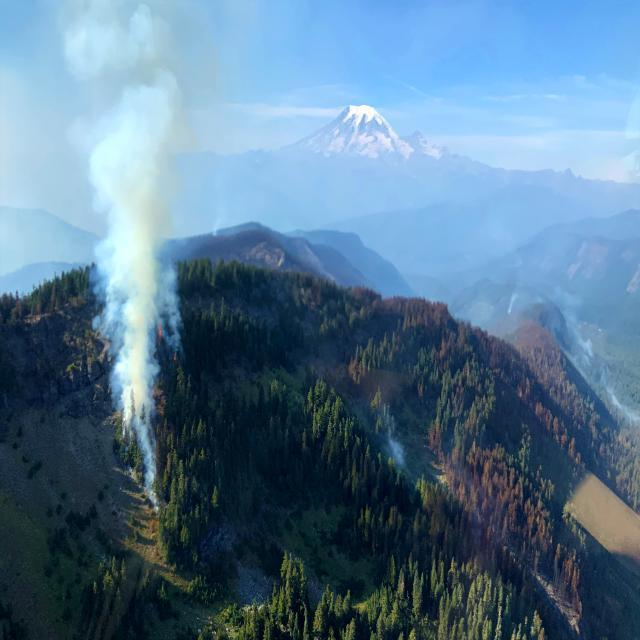Smoke: (72, 7, 229, 486), (383, 428, 411, 471)
